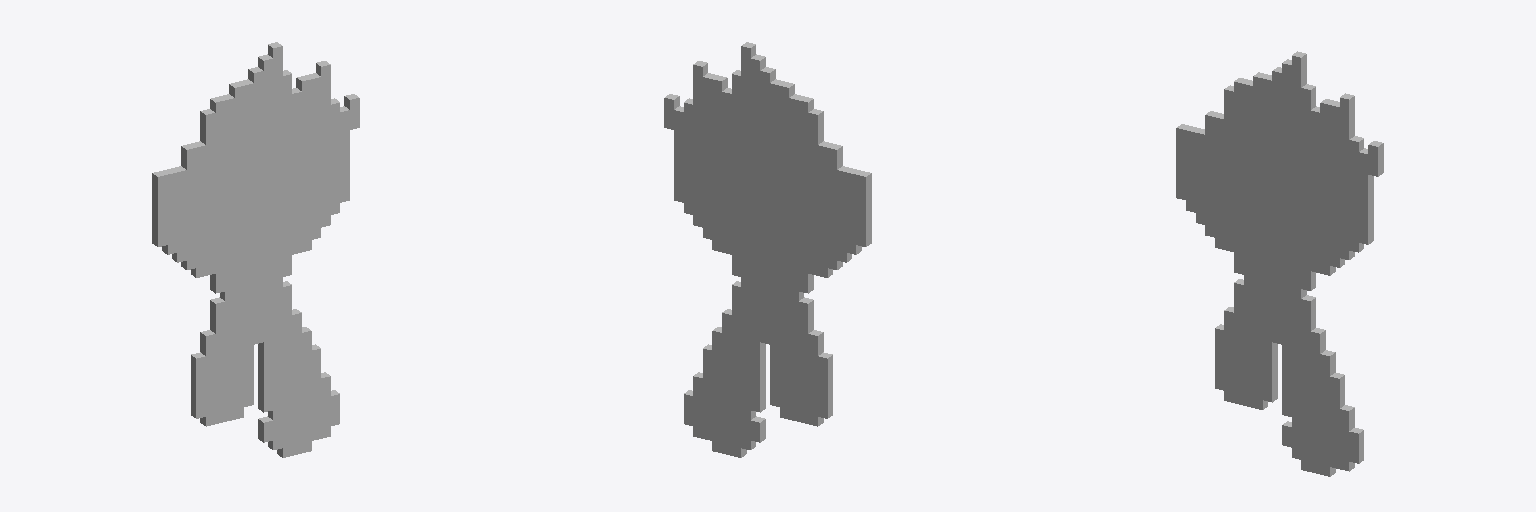
File: RunUpShoot4.obj
3 views of the same model, side by side, from view 1: azimuth 30°, elevation 25°; view 2: azimuth 150°, elevation 25°; view 3: azimuth 330°, elevation 25° (orthographic).
Parts seen in each view (by area): view 1: RunUpShoot4; view 2: RunUpShoot4; view 3: RunUpShoot4.
Part boxes in pixels (left/top/right/bottom): RunUpShoot4: left=152, top=42, right=359, bottom=457; RunUpShoot4: left=664, top=42, right=871, bottom=457; RunUpShoot4: left=1176, top=51, right=1383, bottom=476.
Size of the model in its own units: 2.1 by 4.1 by 0.1.